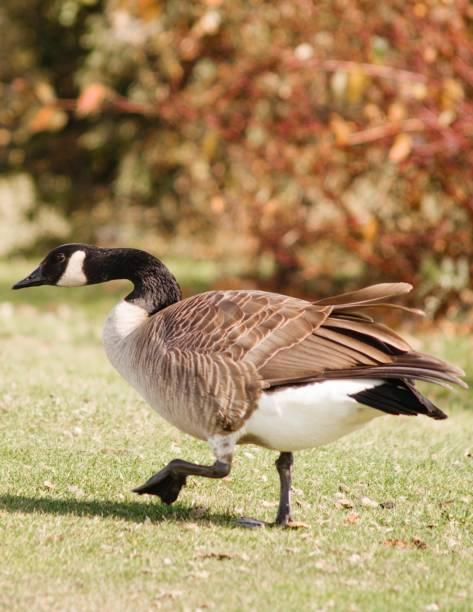Canadian-Goose: (18, 238, 462, 526)
